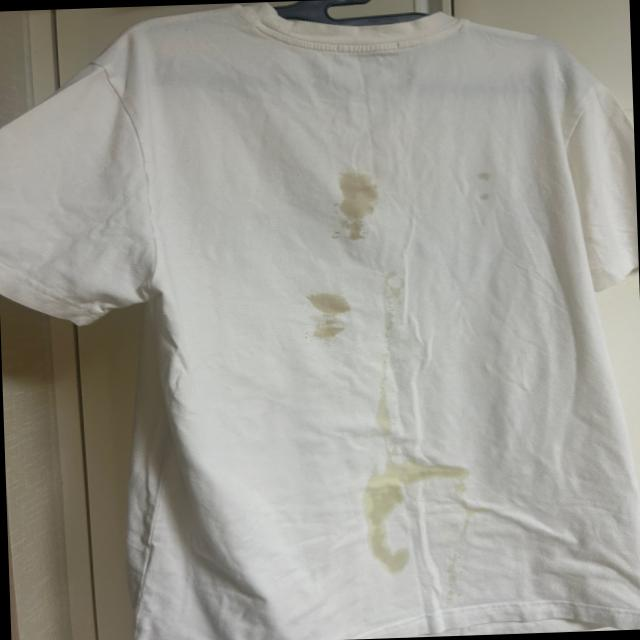stain: (352, 492, 426, 580), (326, 168, 396, 252), (364, 458, 471, 496), (296, 281, 354, 338), (463, 156, 508, 204), (366, 383, 402, 434), (370, 260, 412, 302)
